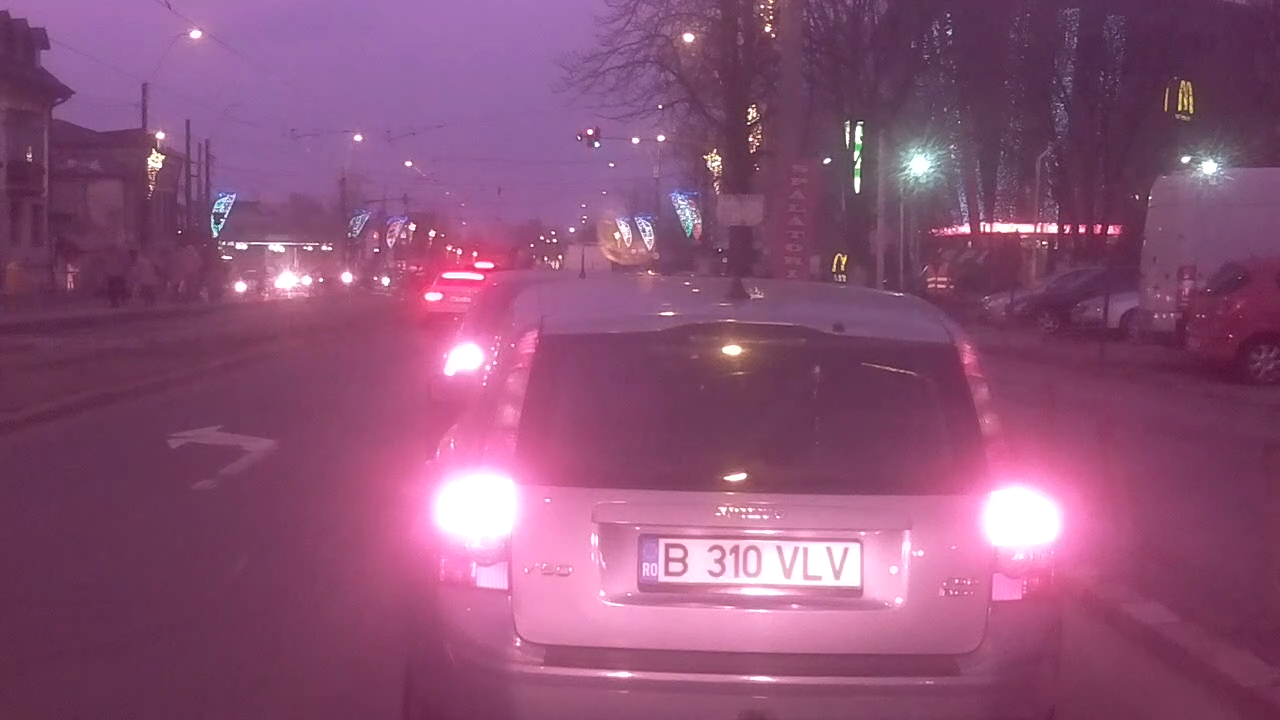license-plate: (629, 531, 871, 597)
